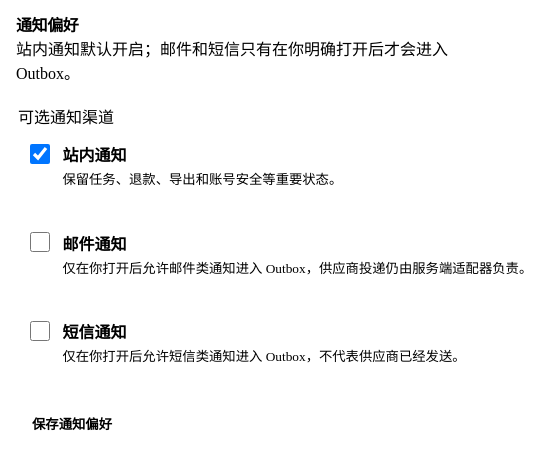
Test: NotificationPreferencesForm › loads defaults and saves the selected notification channels
Click the checkbox labelled "邮件通知 仅在你打开后允许邮件类通知进入 Outbox，供应商投递仍由服务端适配器负责。" at (40, 242), box [30,232,50,252]
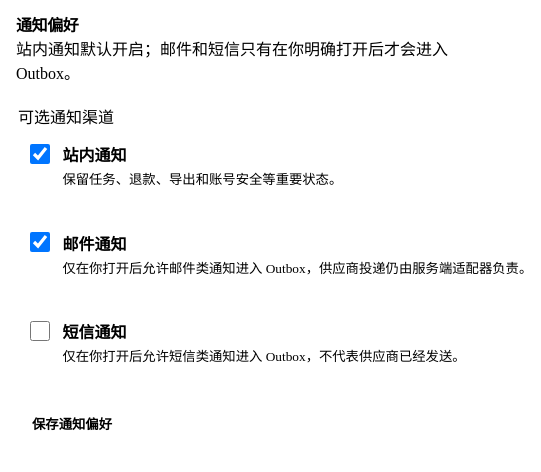
Click the button "保存通知偏好" at (72, 424), box [16,402,128,446]
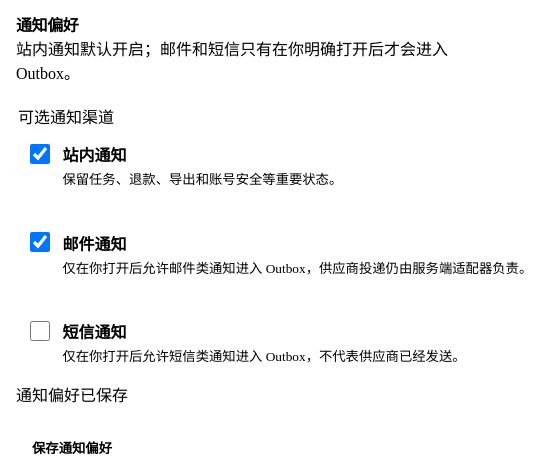
Check: the text "通知偏好已保存" is shown, box [16,387,128,404]
